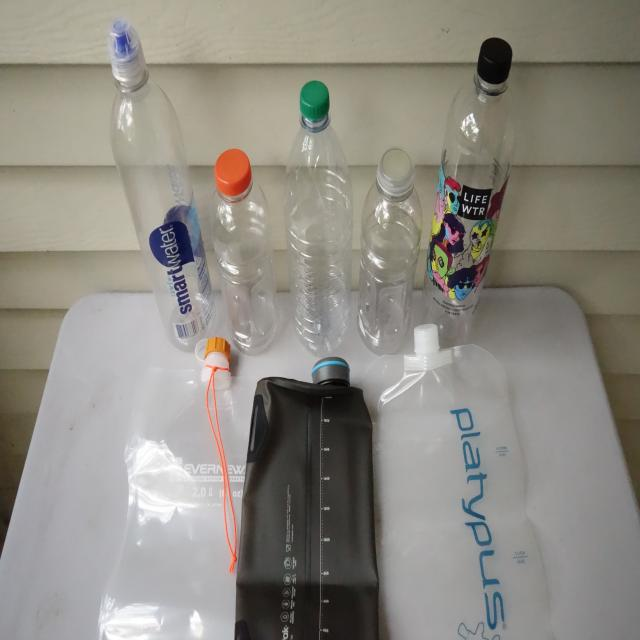plastic_bottle: (106, 16, 217, 352)
